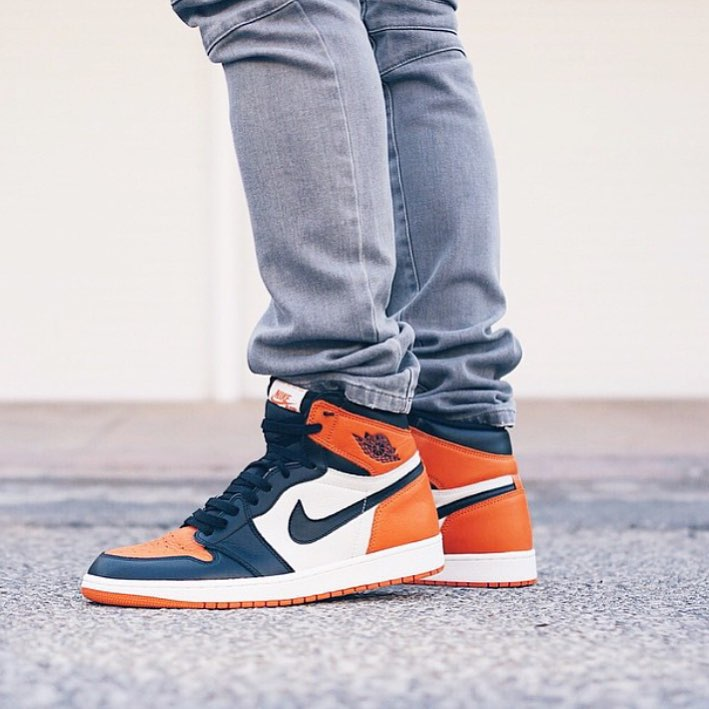sneaker: (54, 366, 464, 631), (385, 360, 562, 603)
